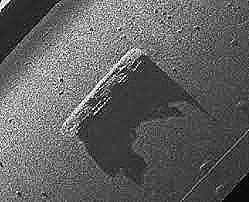ship: (60, 49, 148, 138)
